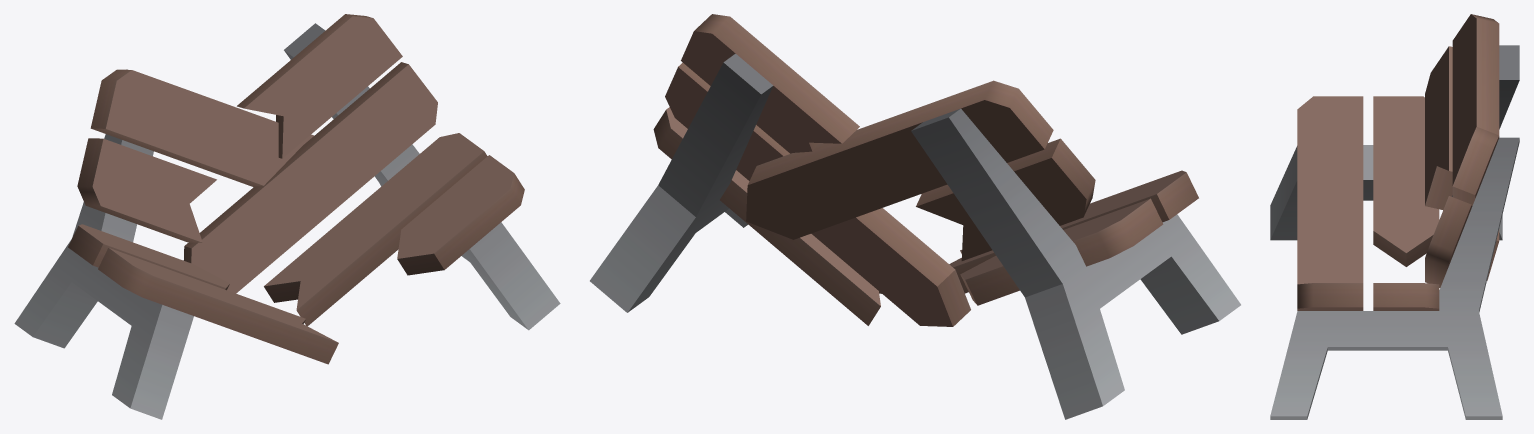
The model's file is bench-damaged.glb.
3 renders of one model, left to right at view 1: azimuth 30°, elevation 25°; view 2: azimuth 150°, elevation 25°; view 3: azimuth 270°, elevation 25°, orthographic. The views are drawn at different scales.
Visible parts, largest first — view 1: bench-damaged; view 2: bench-damaged; view 3: bench-damaged.
Part boxes in pixels (x1,y1,x2,y2): bench-damaged: (14, 14, 560, 419); bench-damaged: (590, 14, 1240, 419); bench-damaged: (1270, 14, 1519, 419).
Size of the model in its own units: 1.36 by 0.7776 by 0.6827.
Materials: 1 (1 with a texture image).
